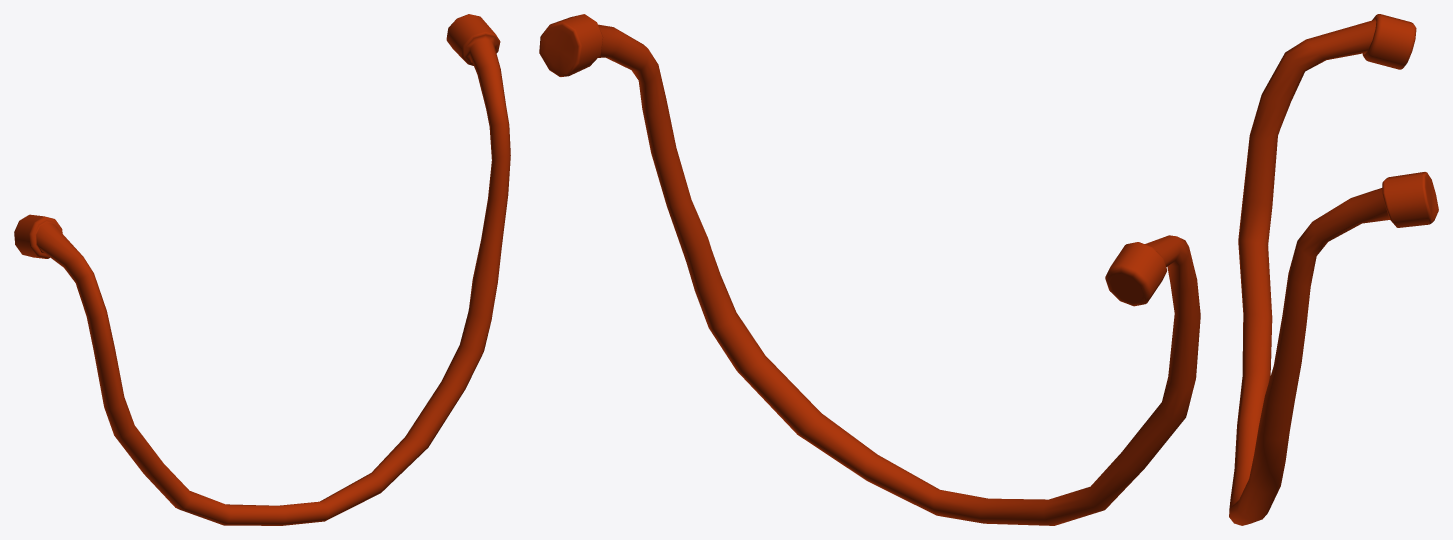
The model's file is Cable_01R.fbx.
The picture shows the model from 3 angles, left to right: view 1: azimuth 30°, elevation 25°; view 2: azimuth 150°, elevation 25°; view 3: azimuth 270°, elevation 25°; orthographic projection. The views are drawn at different scales.
Parts seen in each view (by area): view 1: Cable_01R; view 2: Cable_01R; view 3: Cable_01R.
Boxes of the visible parts, x1,y1,x2,y2 form: Cable_01R: (14,14,510,525); Cable_01R: (539,14,1200,525); Cable_01R: (1229,14,1438,525).
Size of the model in its own units: 33.25 by 26.23 by 10.72.
